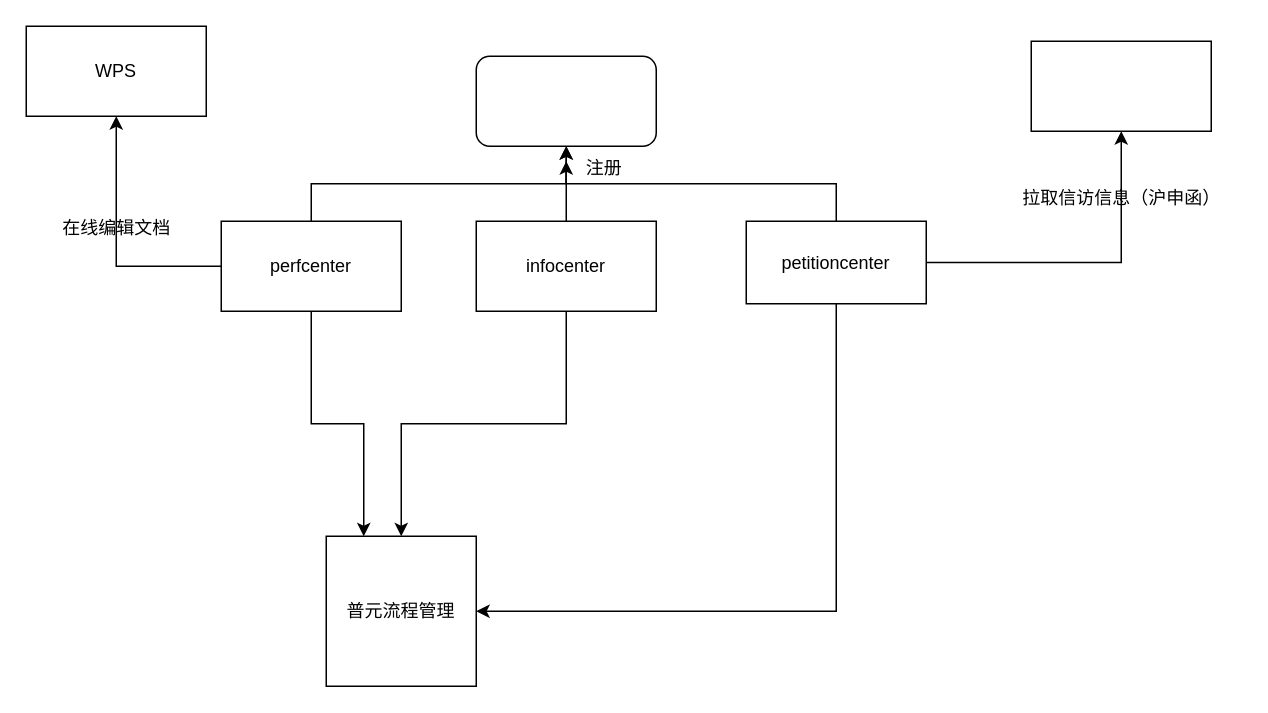
Image size: 1268x713. Some labels were removed from this diagram. Here are the shapes that lost their labels. From the top down, the box of each, then its label:
(475, 55, 656, 146): Nacos
(1030, 40, 1211, 131): 协同平台
